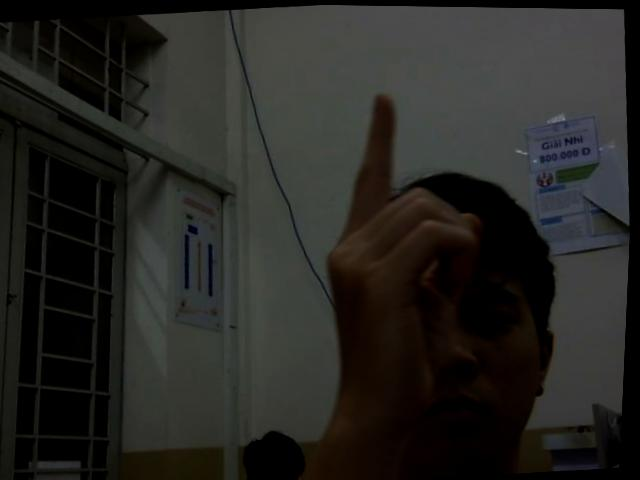D: (309, 80, 504, 427)
